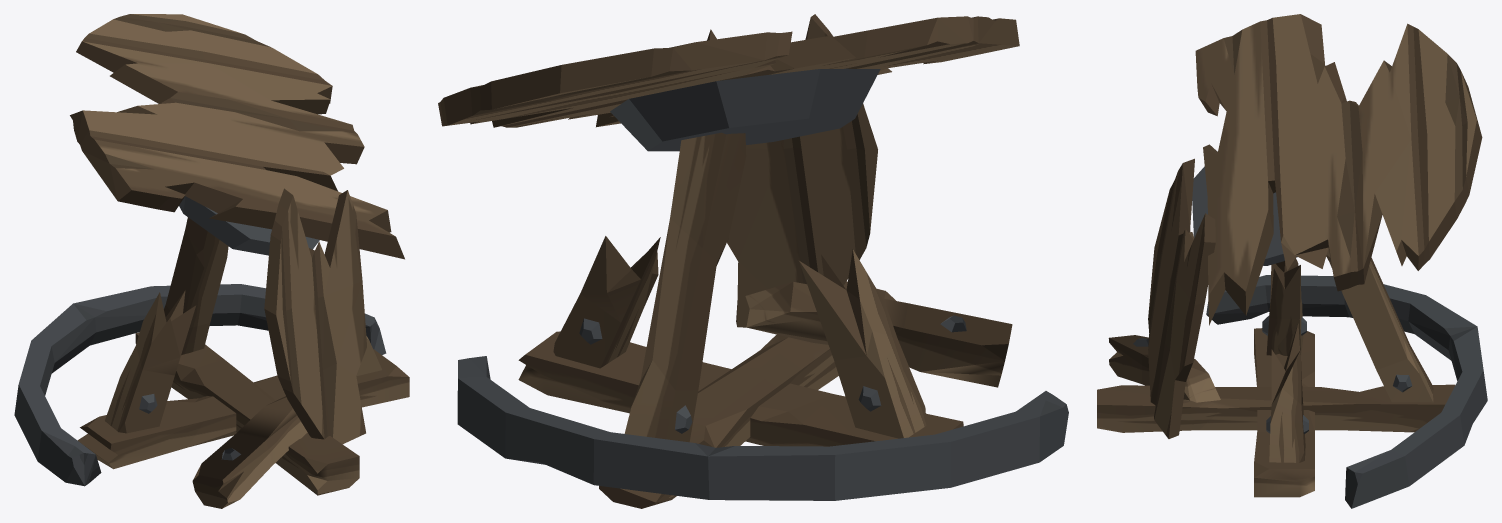
The model's file is SM_Prop_Table_02_Damaged_01.fbx.
3 renders of one model, left to right at view 1: azimuth 30°, elevation 25°; view 2: azimuth 150°, elevation 25°; view 3: azimuth 270°, elevation 25°, orthographic. The views are drawn at different scales.
Parts seen in each view (by area): view 1: SM_Prop_Table_02_Damaged_01; view 2: SM_Prop_Table_02_Damaged_01; view 3: SM_Prop_Table_02_Damaged_01.
Boxes of the visible parts, left/top/right/bottom form: SM_Prop_Table_02_Damaged_01: left=14, top=14, right=409, bottom=508; SM_Prop_Table_02_Damaged_01: left=438, top=14, right=1068, bottom=508; SM_Prop_Table_02_Damaged_01: left=1097, top=14, right=1487, bottom=508.
Size of the model in its own units: 150 by 132 by 132.
